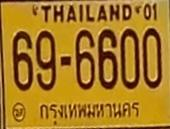0: (142, 28, 162, 88), (120, 28, 139, 88)
6: (12, 30, 32, 90), (97, 28, 117, 88), (75, 30, 94, 90)
9: (36, 30, 56, 90)
BKK: (37, 100, 142, 125)
